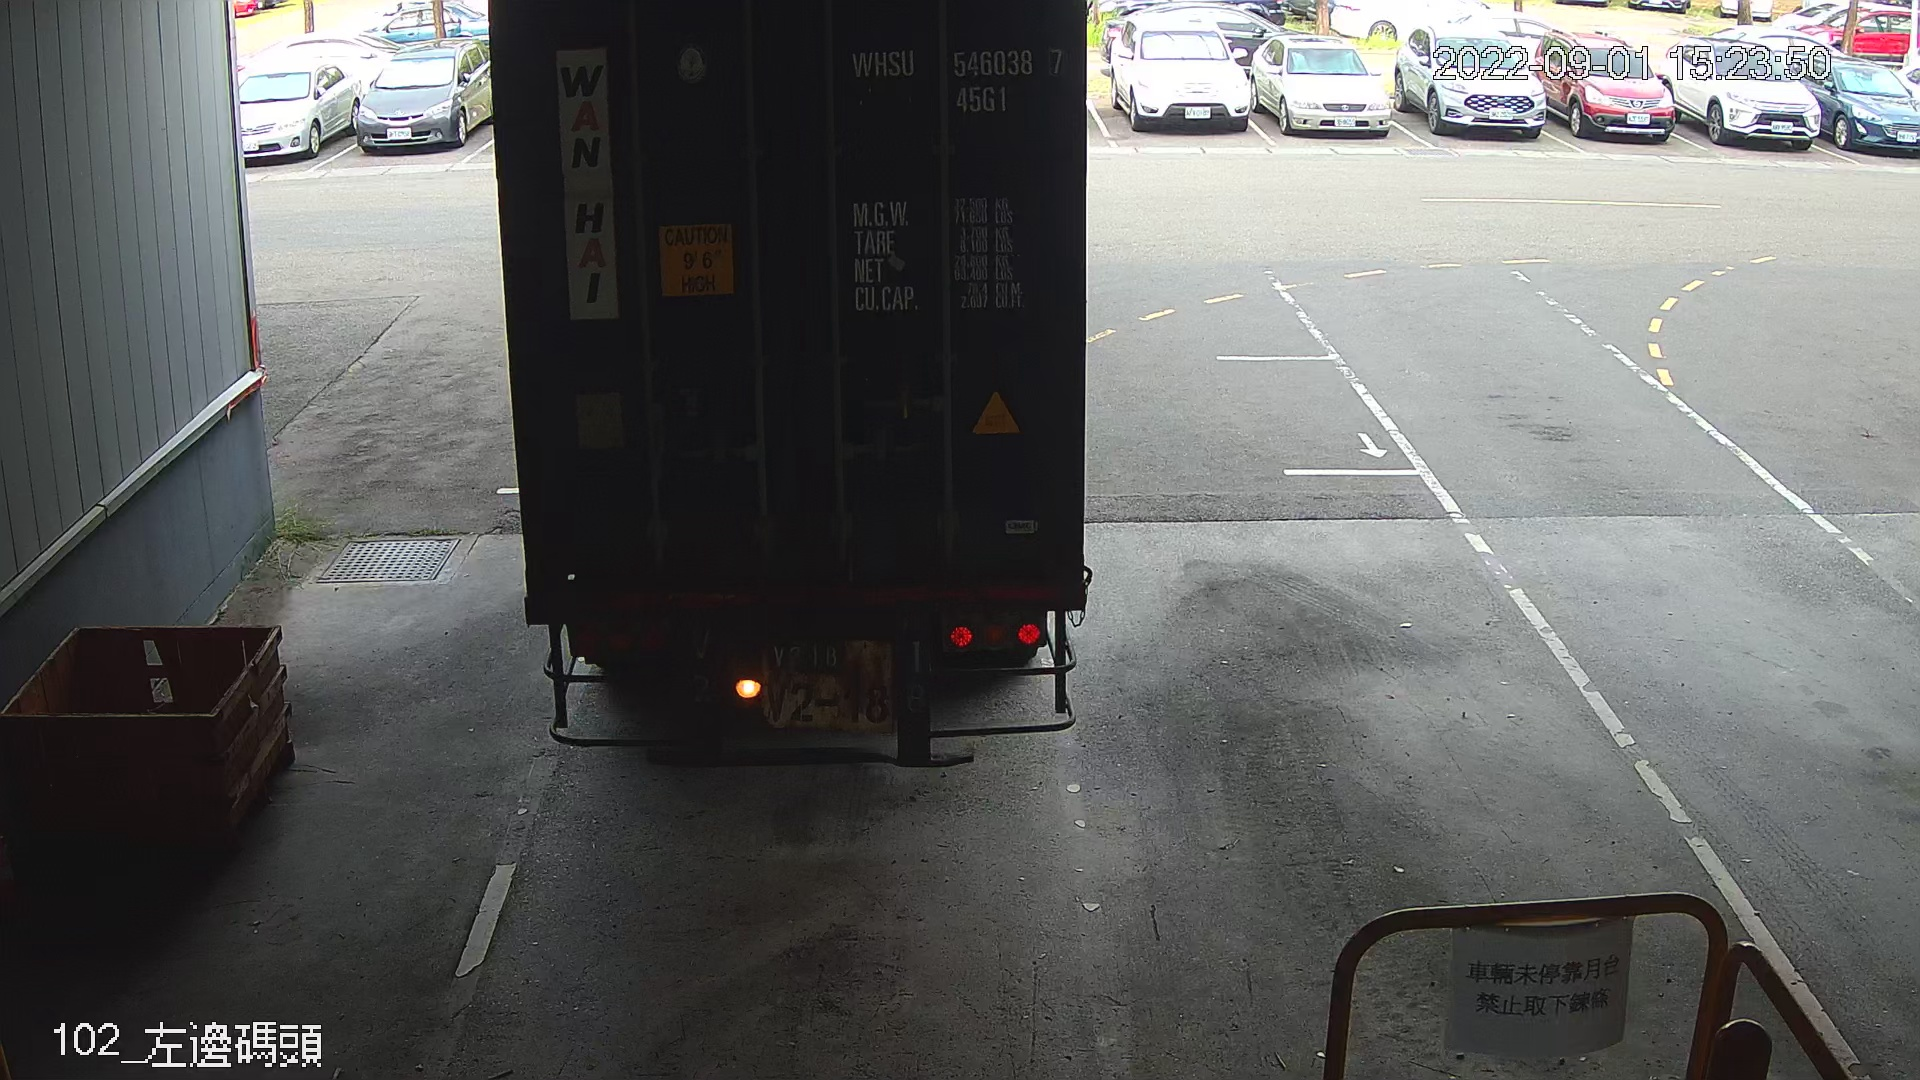container: (841, 36, 1075, 123)
